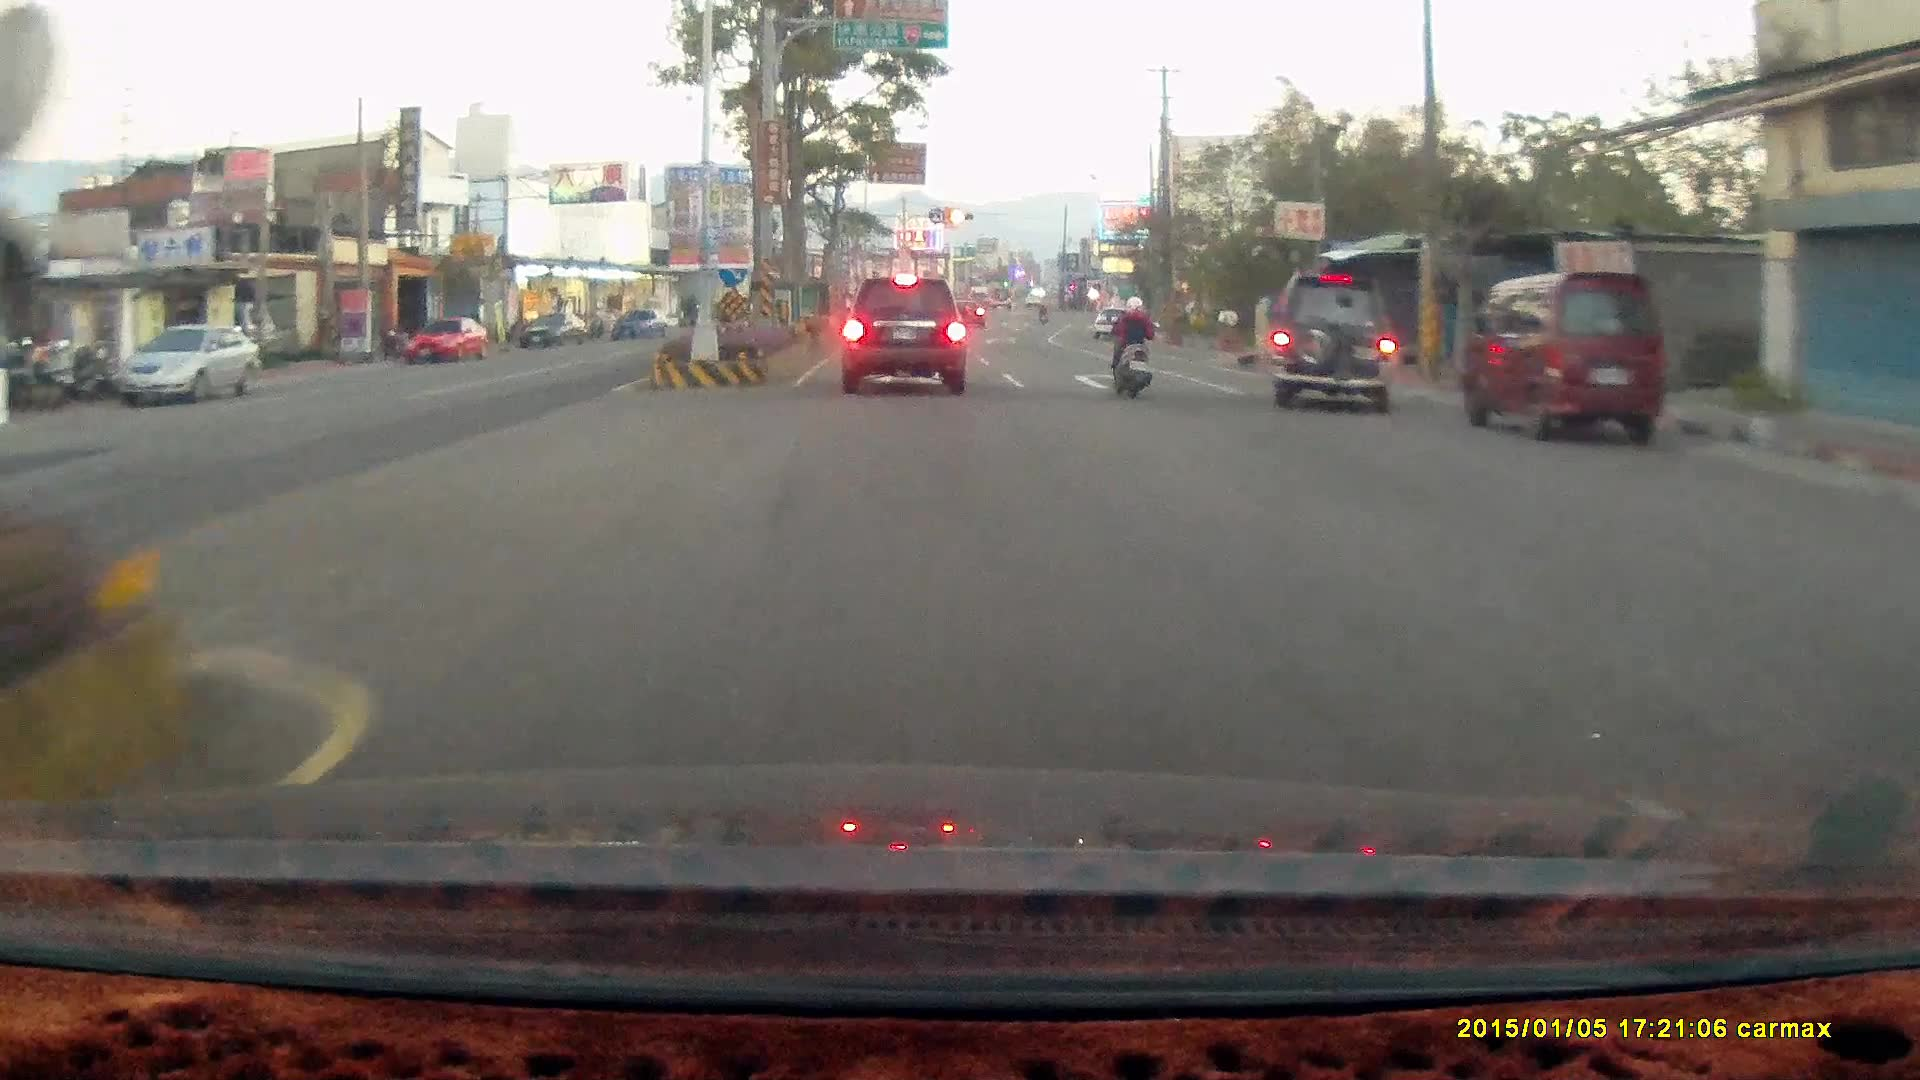rider: (1107, 291, 1156, 399)
vehicle: (1454, 267, 1666, 445), (1458, 268, 1668, 445), (1262, 271, 1405, 405), (1266, 271, 1398, 413), (837, 275, 966, 393), (111, 320, 264, 405), (115, 320, 262, 403), (1896, 493, 1920, 836), (1883, 528, 1920, 690), (402, 315, 487, 365), (402, 314, 486, 363), (1091, 304, 1136, 336)
